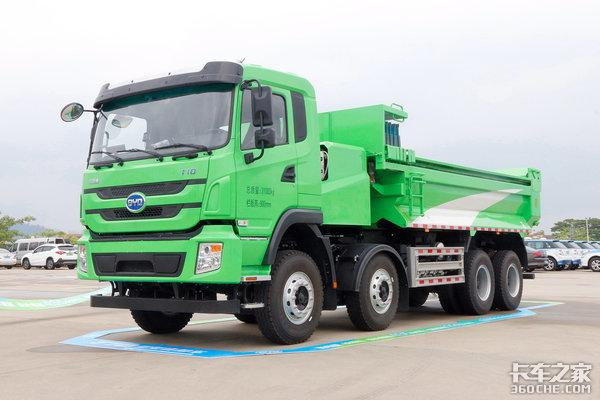truck: (64, 58, 559, 354)
